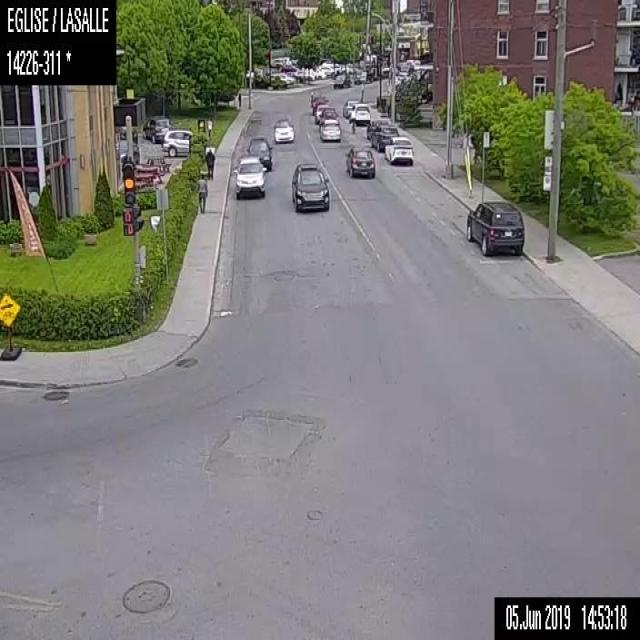cyclist: (350, 104, 356, 133)
pedestrian: (196, 170, 209, 213), (204, 147, 214, 180)
vehicle: (466, 200, 525, 256), (290, 161, 328, 211), (232, 154, 264, 198), (160, 128, 194, 156), (344, 147, 375, 177), (383, 136, 415, 163), (246, 137, 272, 170), (371, 122, 399, 150), (141, 114, 168, 139), (272, 116, 294, 141), (318, 118, 342, 139), (349, 103, 371, 123), (341, 99, 358, 117), (314, 105, 329, 123), (332, 73, 351, 87), (321, 108, 340, 120)
